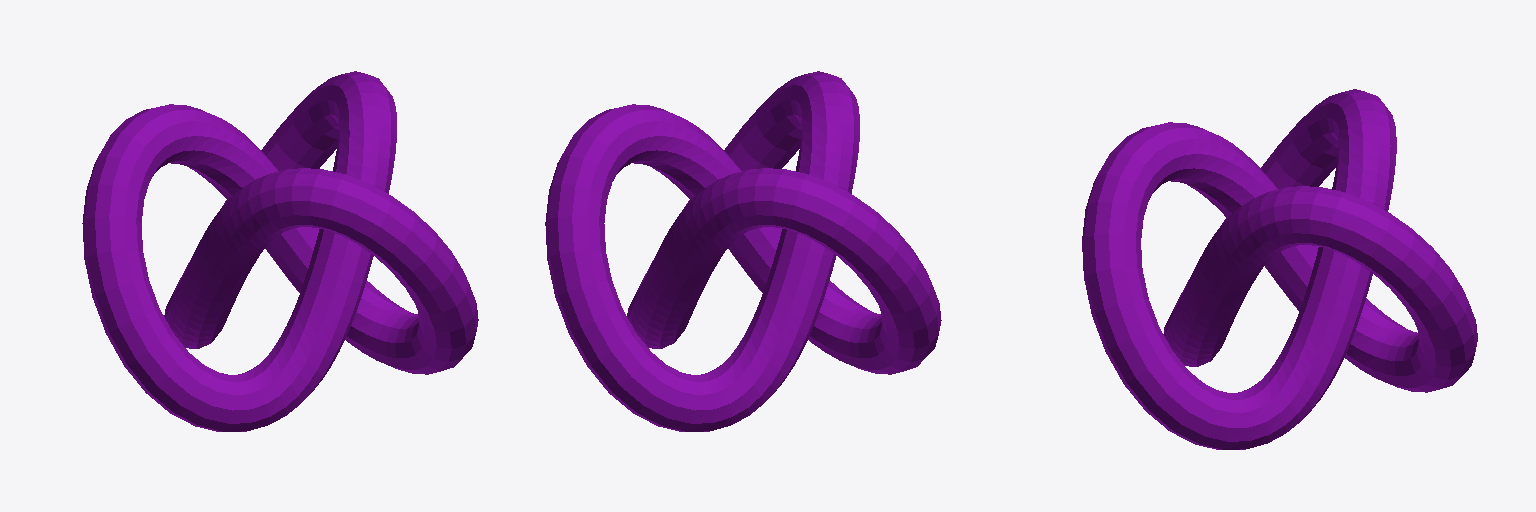
File: torustx.obj
3 views of the same model, side by side, from view 1: azimuth 30°, elevation 25°; view 2: azimuth 150°, elevation 25°; view 3: azimuth 270°, elevation 25° (orthographic).
Visible parts, largest first — view 1: Torus_Knot001; view 2: Torus_Knot001; view 3: Torus_Knot001.
Boxes of the visible parts, <box> form: Torus_Knot001: <box>82,71,478,431</box>; Torus_Knot001: <box>545,71,941,431</box>; Torus_Knot001: <box>1082,89,1477,449</box>.
Size of the model in its own units: 80.55 by 61.58 by 85.89.